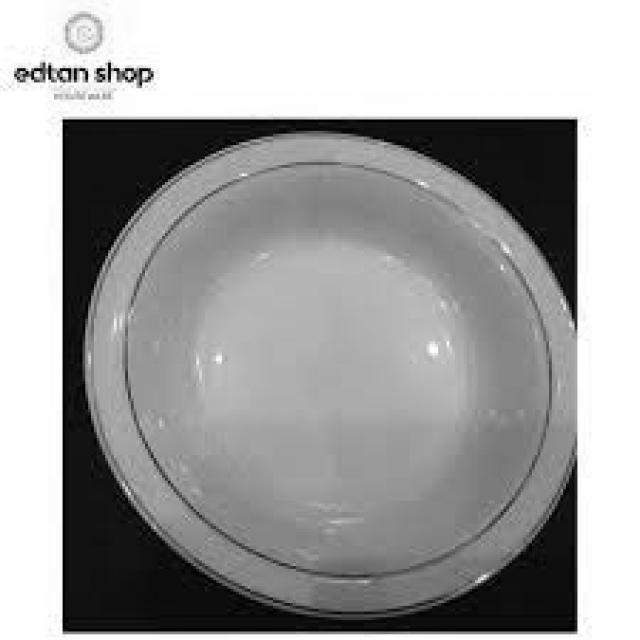dish: (58, 119, 576, 626)
